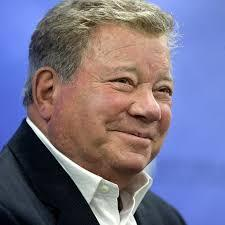Persons: (14, 1, 204, 198)
